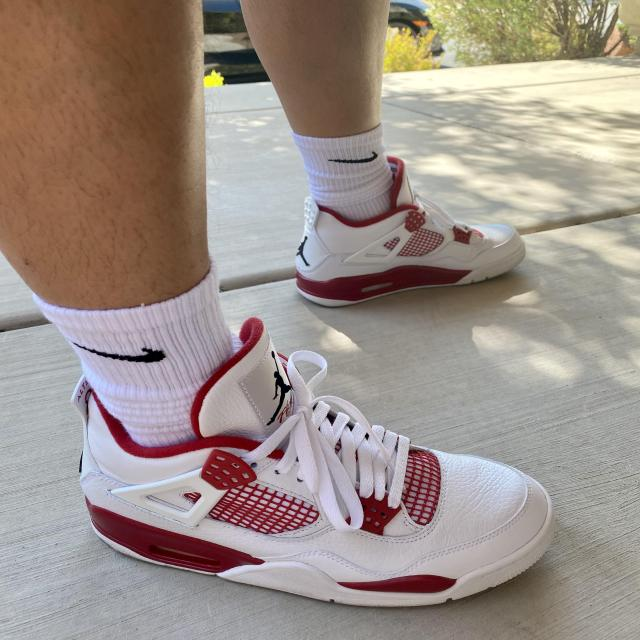shoe: (60, 315, 587, 621), (265, 150, 538, 320)
